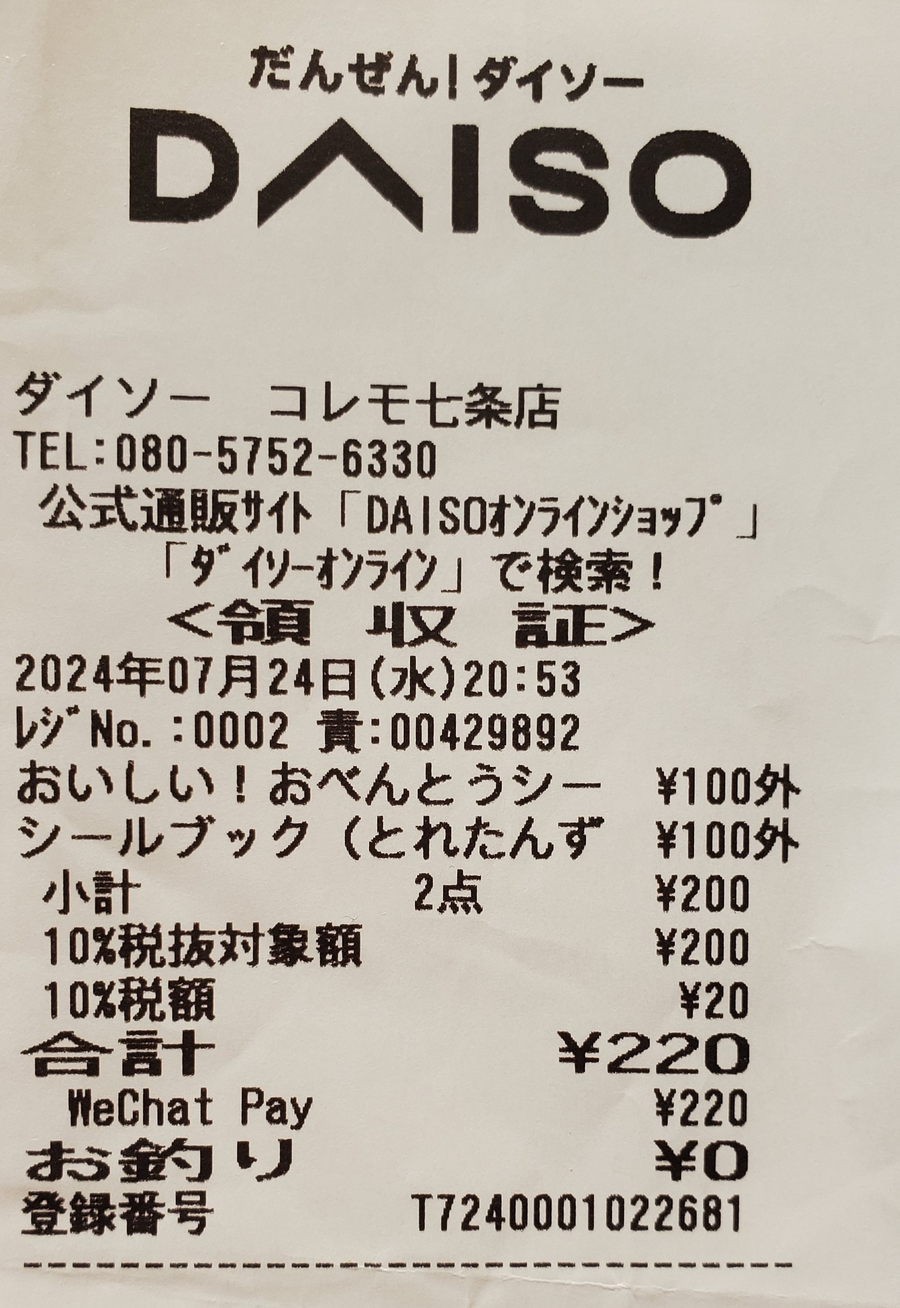Date: (8, 643, 367, 704)
Shopname: (99, 89, 795, 276)
Telnum: (114, 424, 449, 483)
Totalpay: (17, 1014, 771, 1086)
